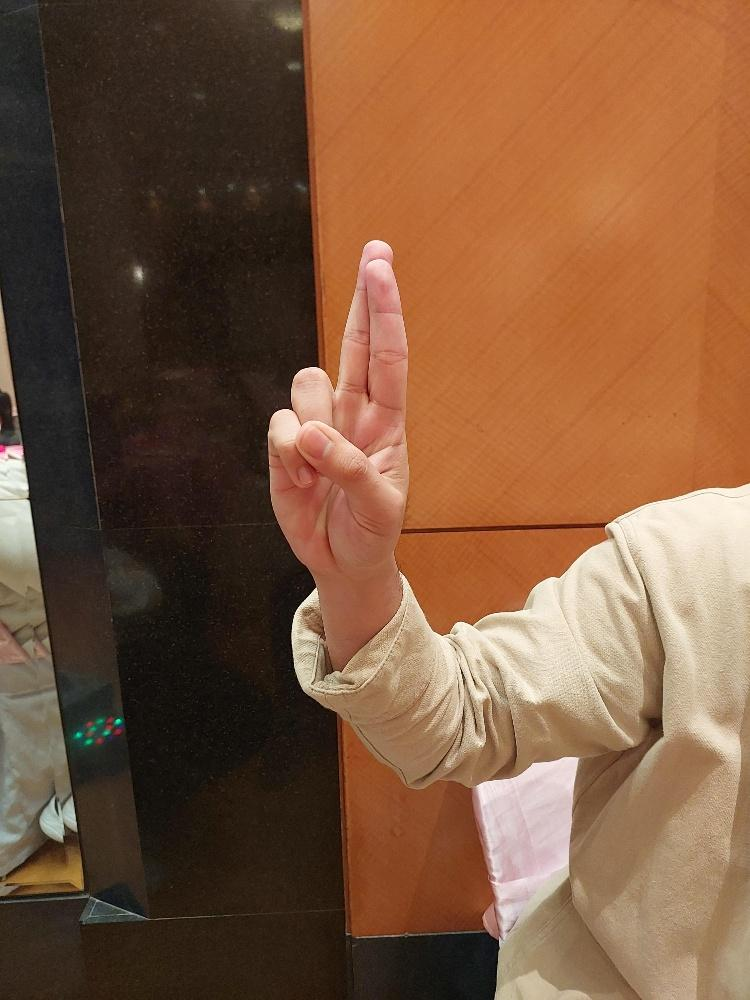r: (265, 235, 411, 580)
